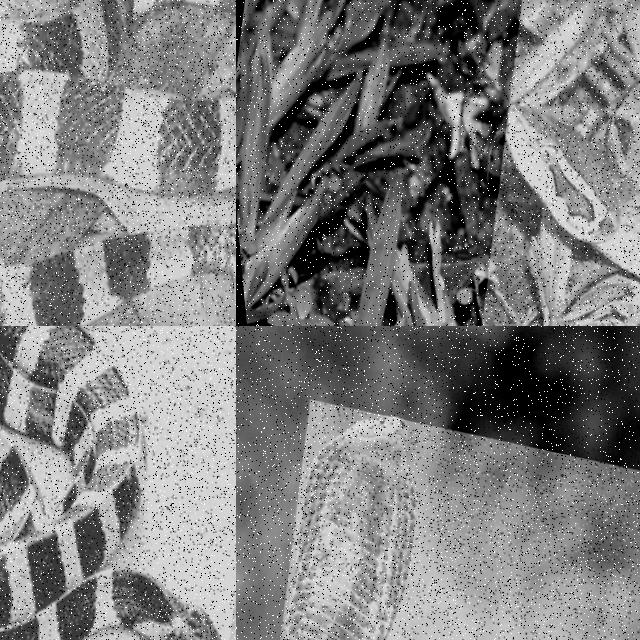Bungarus fasciatus: (0, 326, 220, 639), (0, 0, 235, 194)
Calloselasma rhodostoma: (506, 0, 639, 277)
Ophiophagus hannah: (283, 417, 415, 639)
snake: (0, 326, 220, 639), (0, 0, 235, 194), (506, 0, 639, 277), (283, 417, 415, 639)
